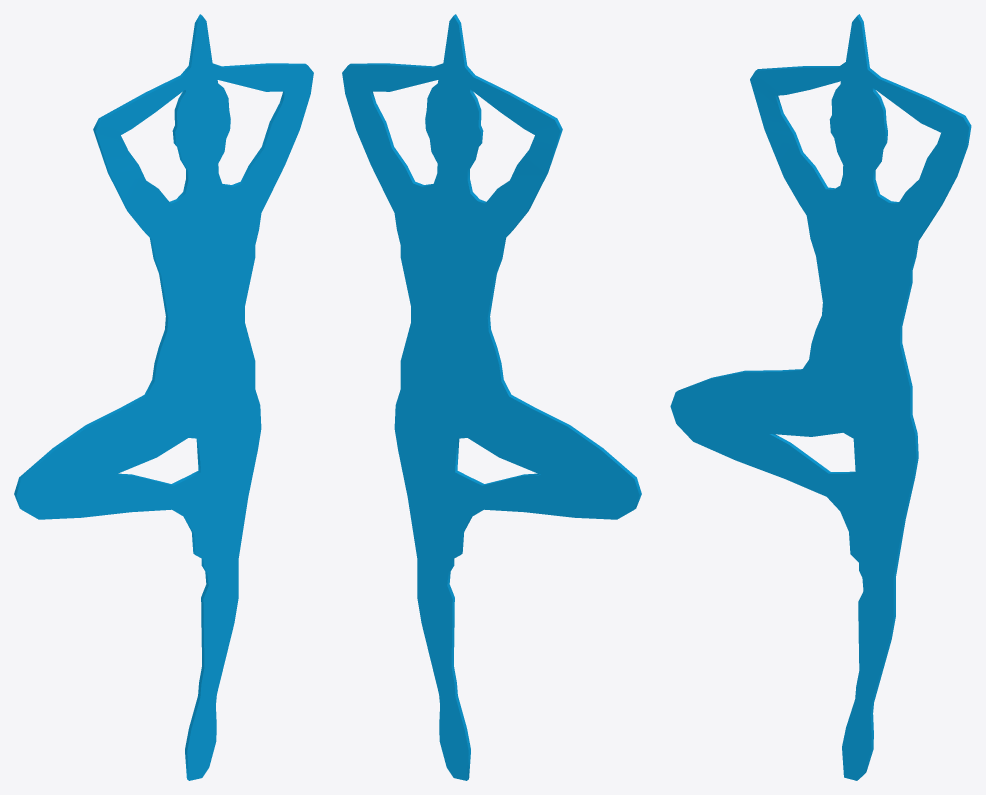
The model's file is ps2_save-icons_yourselffitness.glb.
The picture shows the model from 3 angles, left to right: view 1: azimuth 30°, elevation 25°; view 2: azimuth 150°, elevation 25°; view 3: azimuth 330°, elevation 25°; orthographic projection.
Parts seen in each view (by area): view 1: YSF1.ICO; view 2: YSF1.ICO; view 3: YSF1.ICO.
Part boxes in pixels (left/top/right/bottom): YSF1.ICO: left=14, top=14, right=313, bottom=780; YSF1.ICO: left=342, top=14, right=641, bottom=780; YSF1.ICO: left=670, top=14, right=971, bottom=780.
Bounding box in the file's own units: 1.96 × 4.8 × 0.0364.
1 material, 1 textured.
